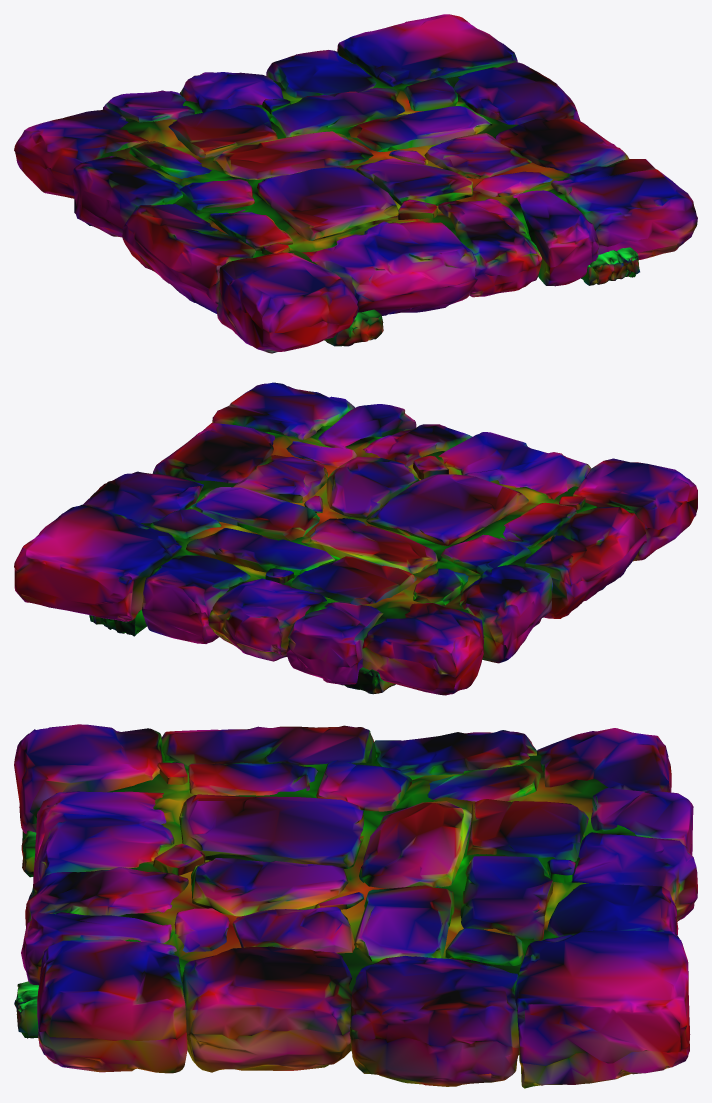
Rendered from SM_Stone_Ceiling.fbx.
3 views of the same model, one above another, from view 1: azimuth 30°, elevation 25°; view 2: azimuth 150°, elevation 25°; view 3: azimuth 270°, elevation 25° (orthographic). The views are drawn at different scales.
Parts seen in each view (by area): view 1: SM_Stone_Ceiling_LOD0; view 2: SM_Stone_Ceiling_LOD0; view 3: SM_Stone_Ceiling_LOD0.
Part boxes in pixels (x1,y1,x2,y2): SM_Stone_Ceiling_LOD0: [14, 14, 697, 353]; SM_Stone_Ceiling_LOD0: [14, 382, 697, 695]; SM_Stone_Ceiling_LOD0: [14, 724, 697, 1088].
Size of the model in its own units: 318 by 314 by 47.59.
